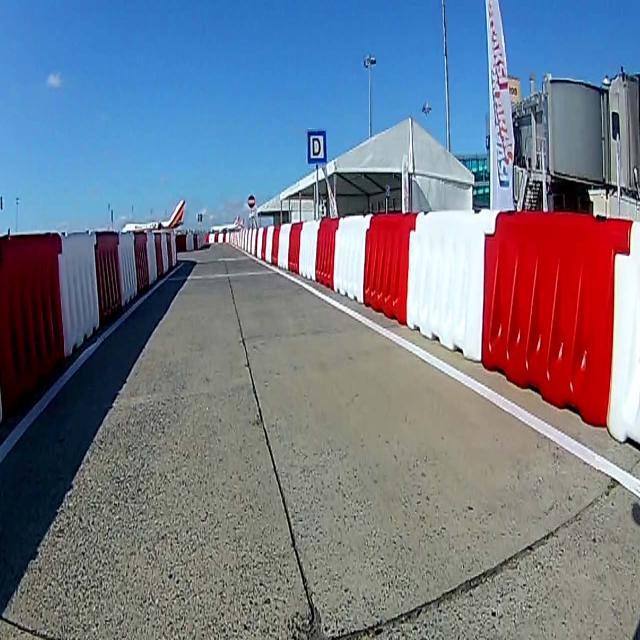durak: (307, 129, 327, 163)
girisyok: (247, 194, 256, 210)
